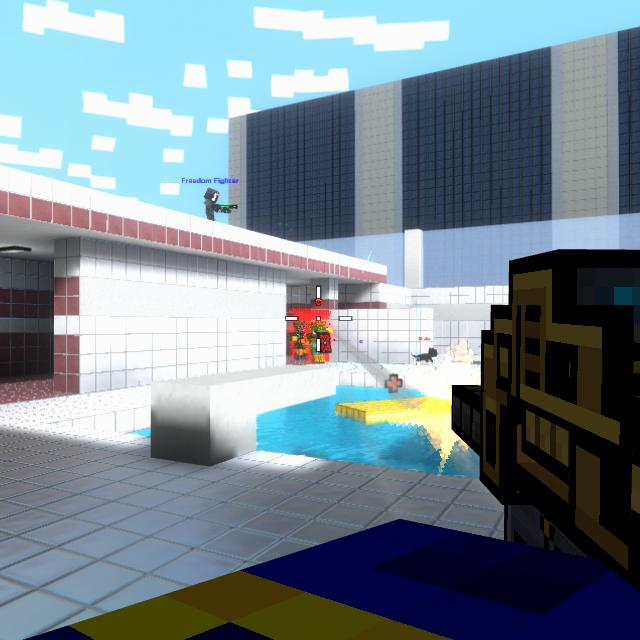Enemy: (306, 318, 332, 362), (289, 321, 306, 361)
